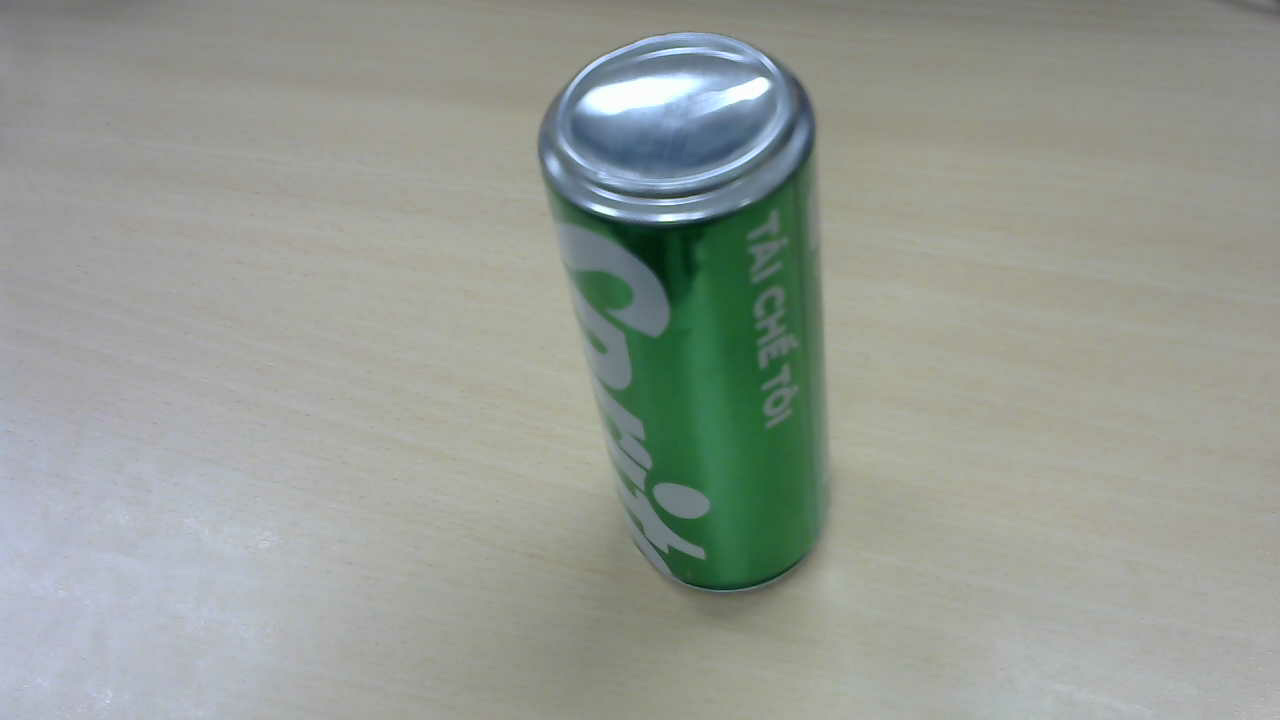Sprite: (536, 36, 839, 593)
